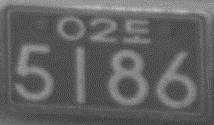0: (56, 16, 87, 41)
1: (62, 45, 98, 104)
2: (89, 17, 121, 44)
5: (14, 43, 55, 102)
6: (155, 50, 197, 110)
8: (107, 47, 150, 107)
도: (121, 19, 152, 44)
